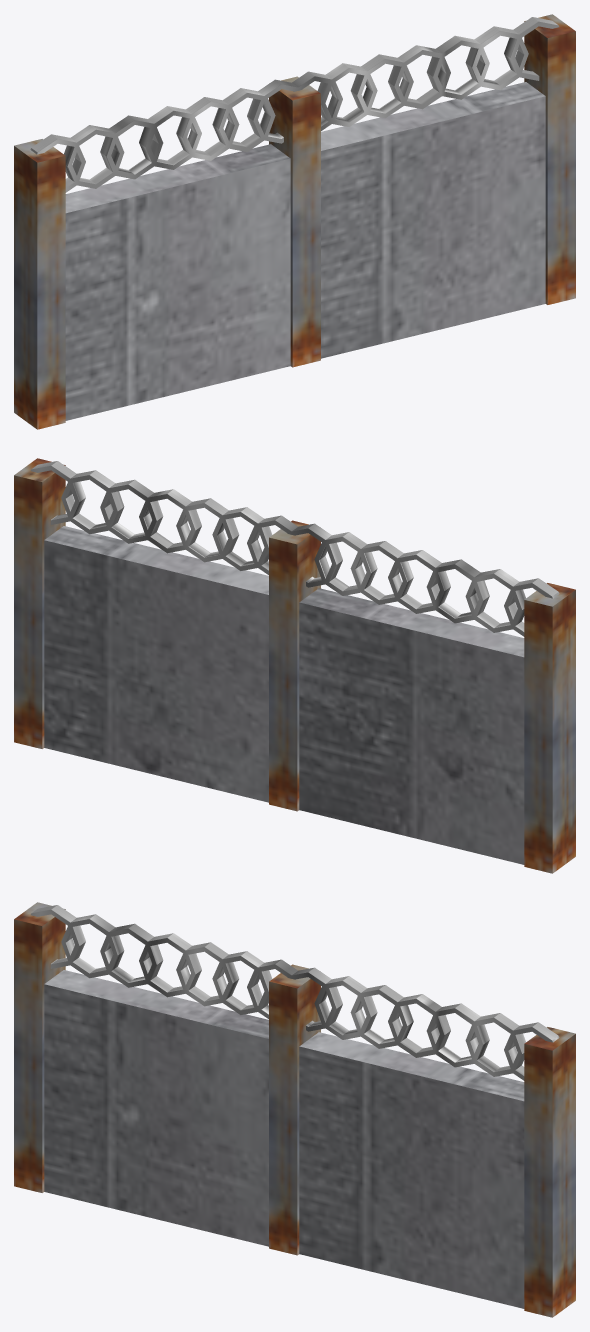
Rendered from Wall1_1.fbx.
3 views of the same model, one above another, from view 1: azimuth 30°, elevation 25°; view 2: azimuth 150°, elevation 25°; view 3: azimuth 330°, elevation 25° (orthographic).
Parts seen in each view (by area): view 1: Wall, Wire; view 2: Wall, Wire; view 3: Wall, Wire.
Part boxes in pixels (box(x1,y1,x2,y2)): Wall: box(14, 14, 575, 429); Wire: box(30, 17, 559, 192); Wall: box(14, 458, 575, 873); Wire: box(30, 461, 559, 636); Wall: box(14, 902, 575, 1317); Wire: box(30, 905, 559, 1080).
Bounding box in the file's own units: 1900 × 936 × 143.
Materials: 1 (1 with a texture image).
